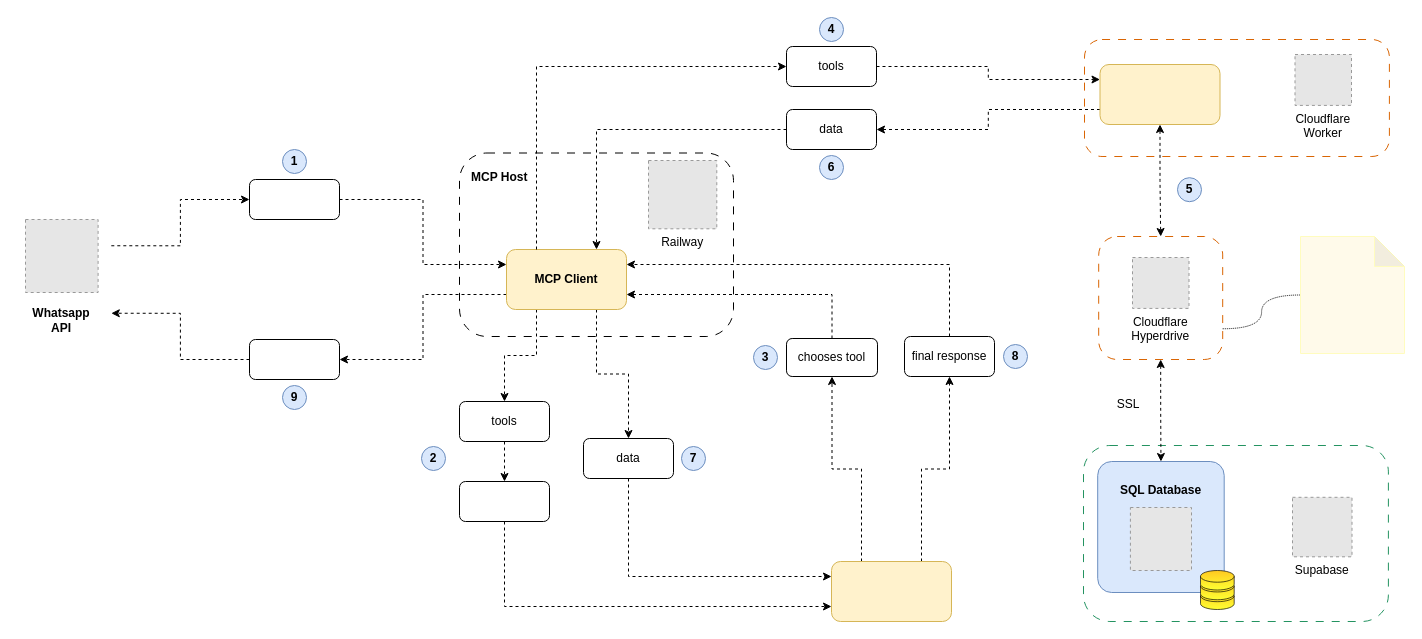
The diagram is 1422 pixels wide and 639 high, and some of its shapes have lost their labels. Grey dashed boxes stand in for pictures. Each missing label, with the centre of its shape:
Connection Pooling & Query Caching: point (1352, 295)
input/query: point (294, 199)
LLM: point (891, 591)
MCP Server: point (1159, 94)
output: point (294, 359)
query: point (504, 501)
